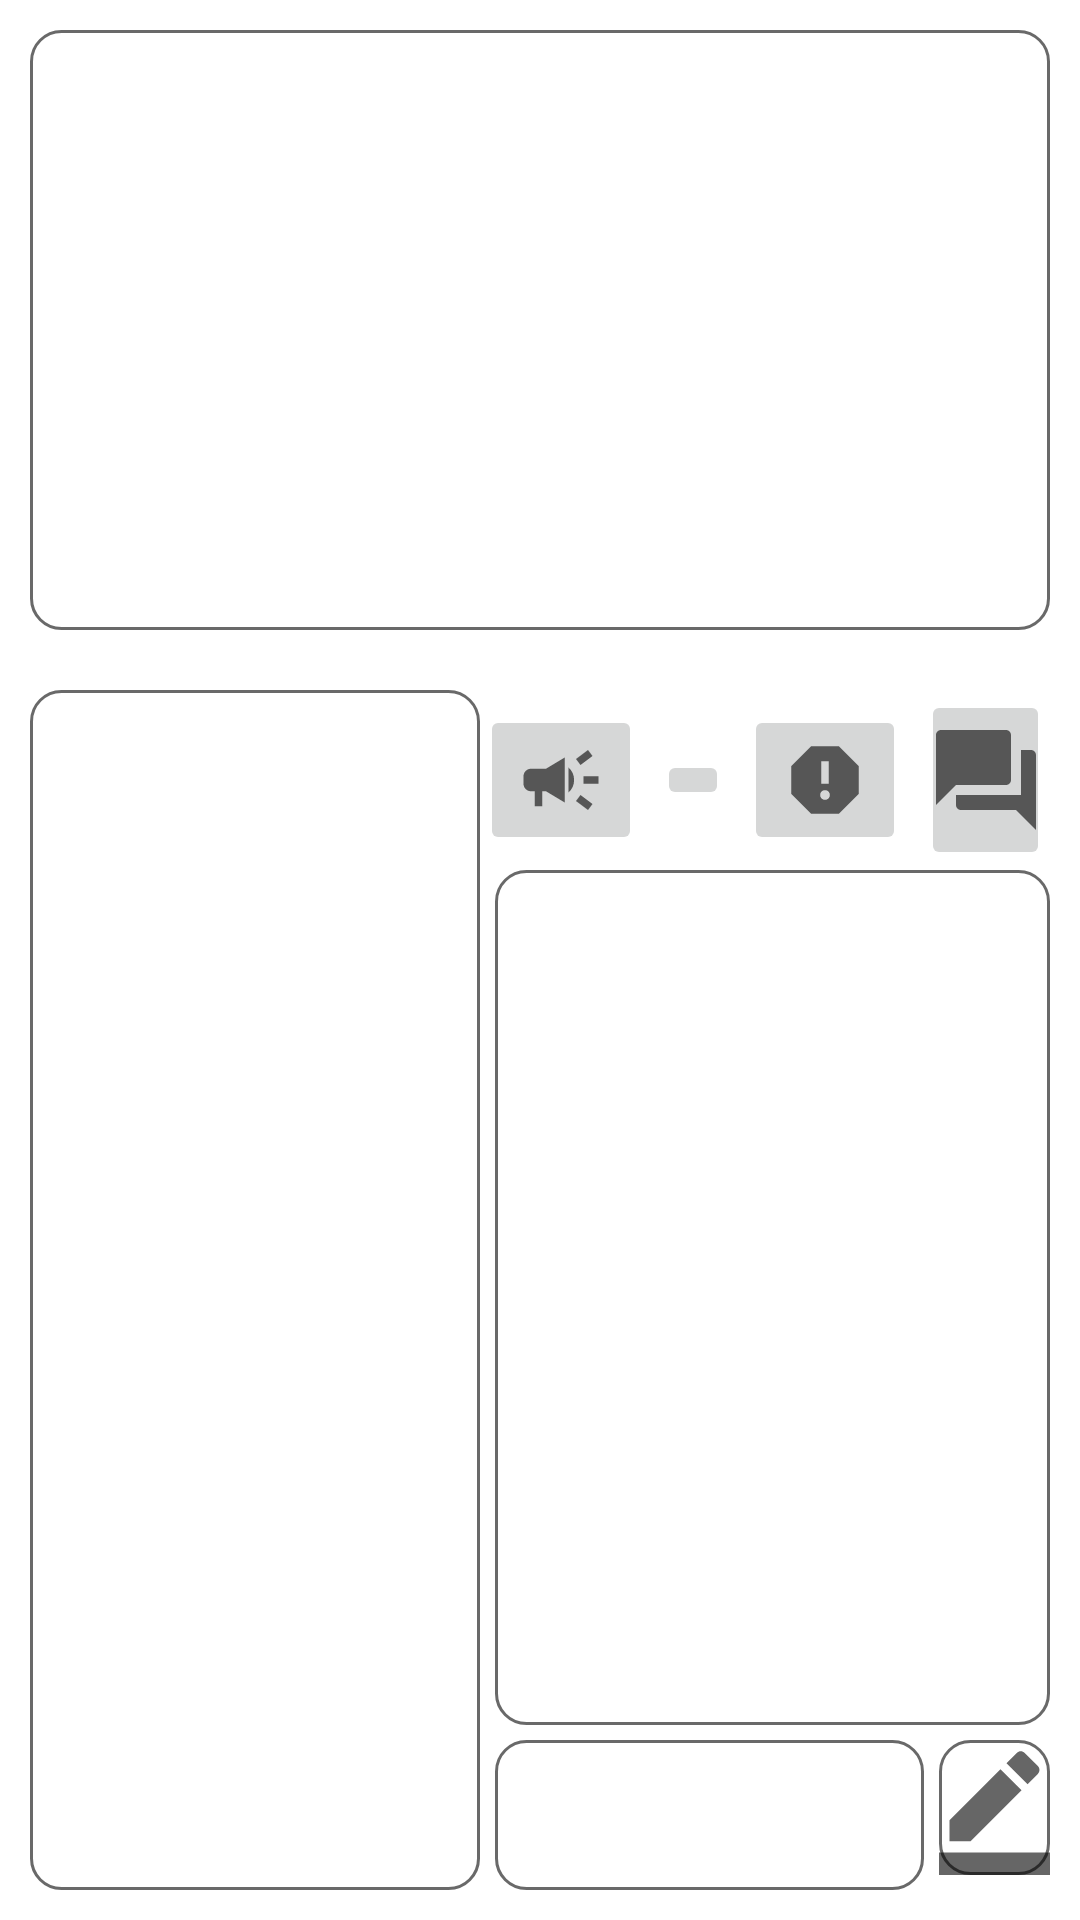

Named icons in this screenshot (1080×1920) and their bounding boxes, [x1=x1, y1=y1, x2=x2, y2=y2]:
campaign: [x1=492, y1=723, x2=630, y2=837]
question answer: [x1=933, y1=708, x2=1038, y2=852]
report: [x1=756, y1=723, x2=894, y2=837]
